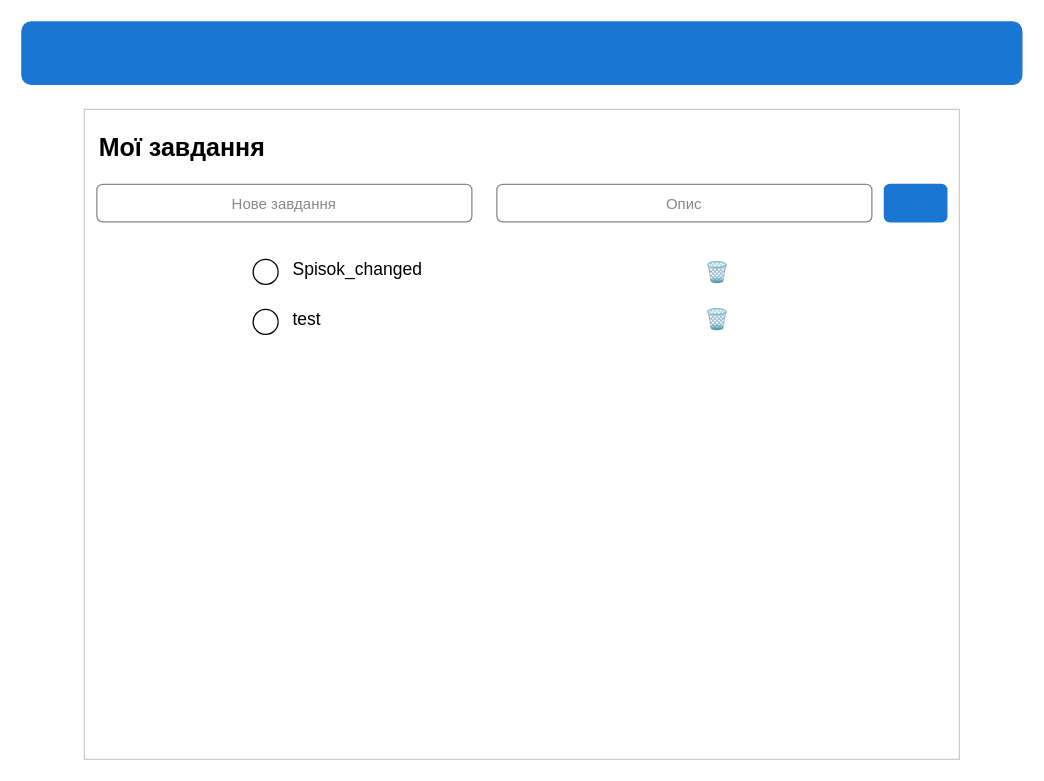
The diagram is 1044 pixels wide and 781 high, and some of its shapes have lost their labels. Each missing label, with the centre of its shape:
Home About To-Do Login Register: point 521,52
ДОДАТИ: point 915,202
